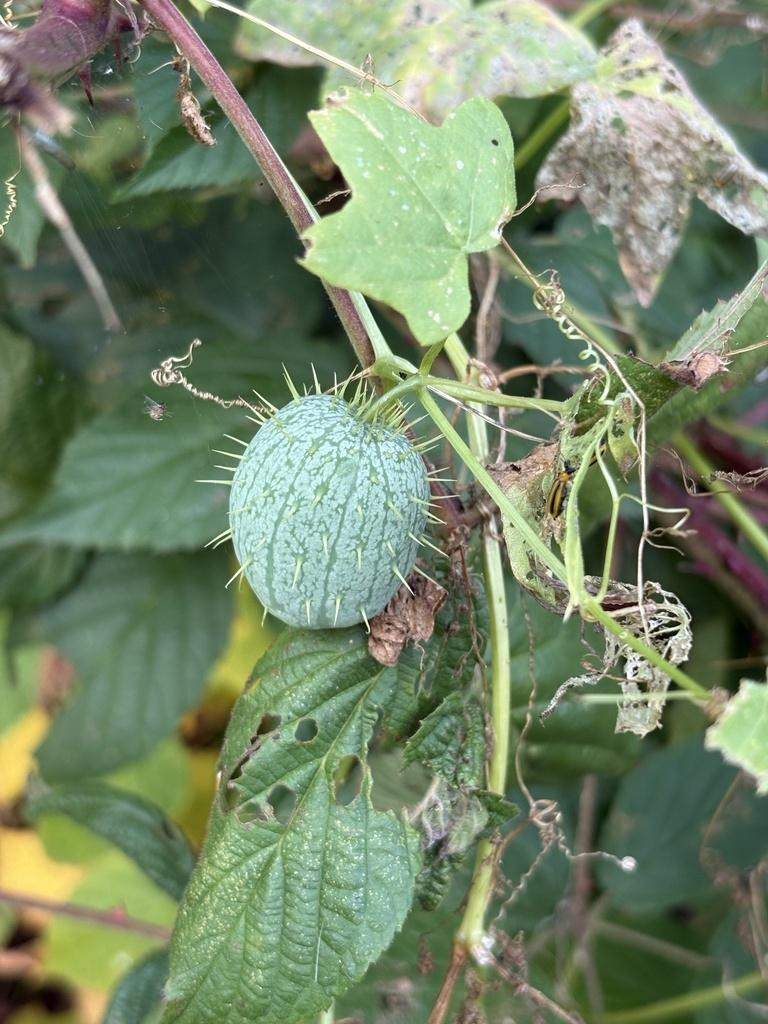potato_beetle: (533, 451, 584, 525)
